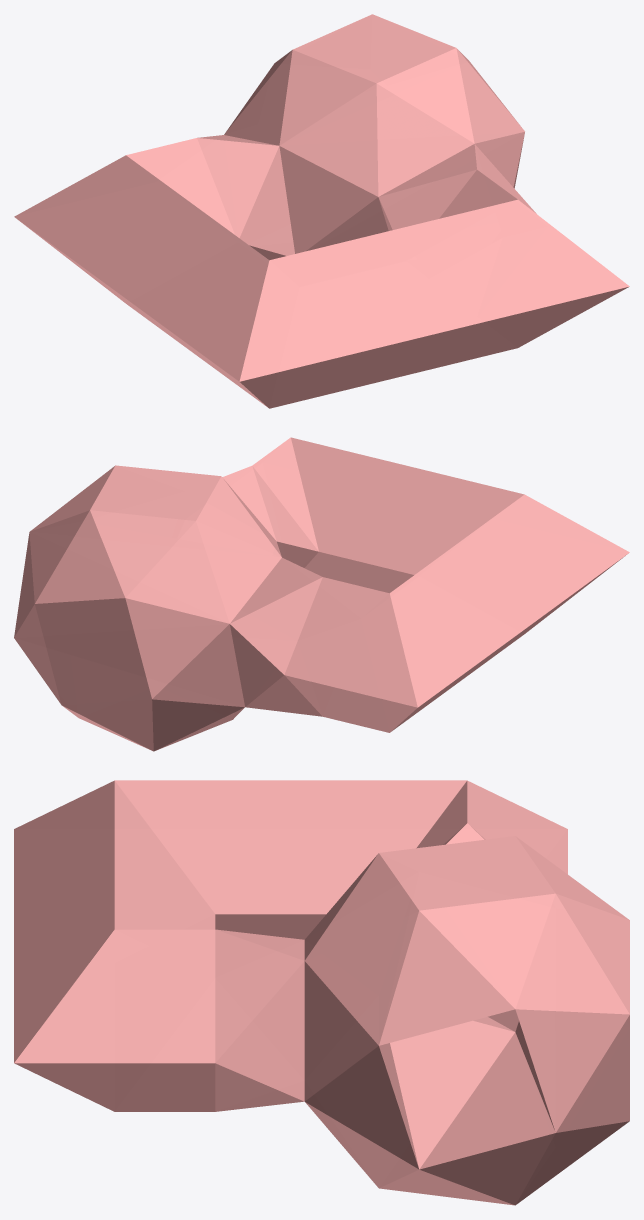
File: SnubCube.obj
The picture shows the model from 3 angles, top to bottom: view 1: azimuth 30°, elevation 25°; view 2: azimuth 150°, elevation 25°; view 3: azimuth 270°, elevation 25°; orthographic projection. The views are drawn at different scales.
Size of the model in its own units: 4.33 by 2.29 by 4.33.
